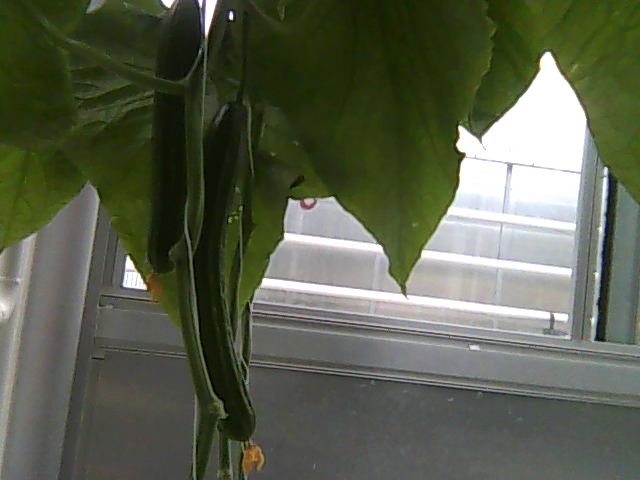concombre: (177, 94, 261, 476), (143, 1, 207, 277)
